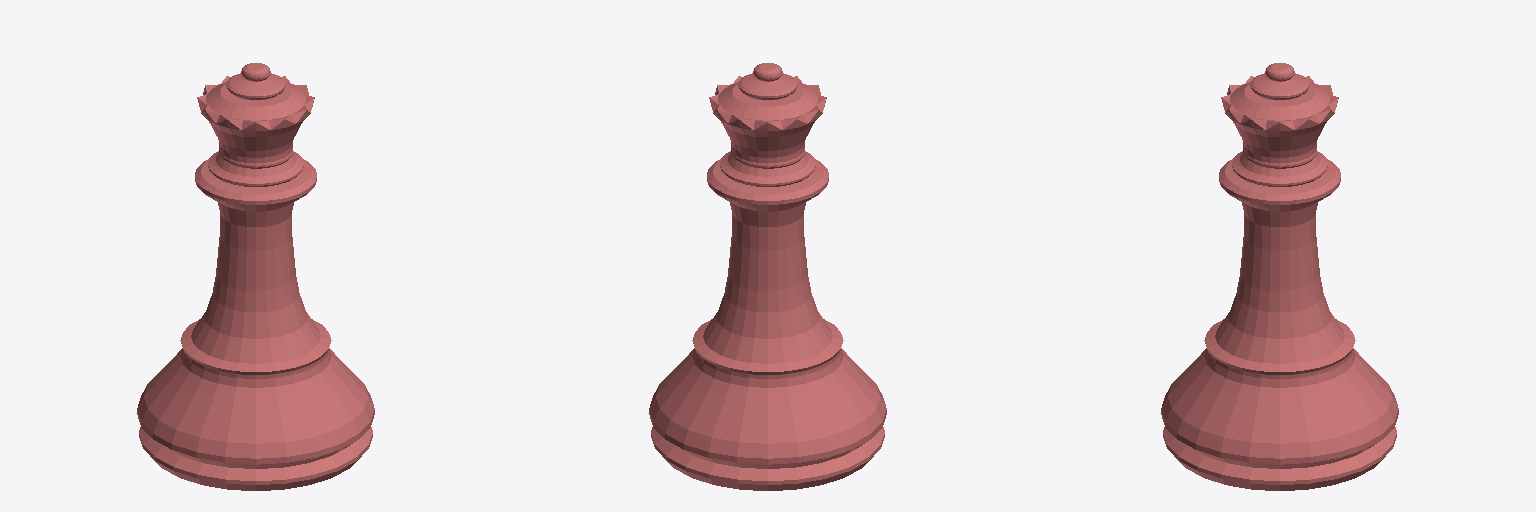
Rendered from queen0.obj.
3 views of the same model, side by side, from view 1: azimuth 30°, elevation 25°; view 2: azimuth 150°, elevation 25°; view 3: azimuth 270°, elevation 25° (orthographic).
Parts seen in each view (by area): view 1: Mesh1_Model; view 2: Mesh1_Model; view 3: Mesh1_Model.
Boxes of the visible parts, x1,y1,x2,y2 form: Mesh1_Model: [137, 63, 374, 490]; Mesh1_Model: [649, 63, 886, 490]; Mesh1_Model: [1161, 63, 1398, 490].
Bounding box in the file's own units: 0.888 × 1.56 × 0.888.